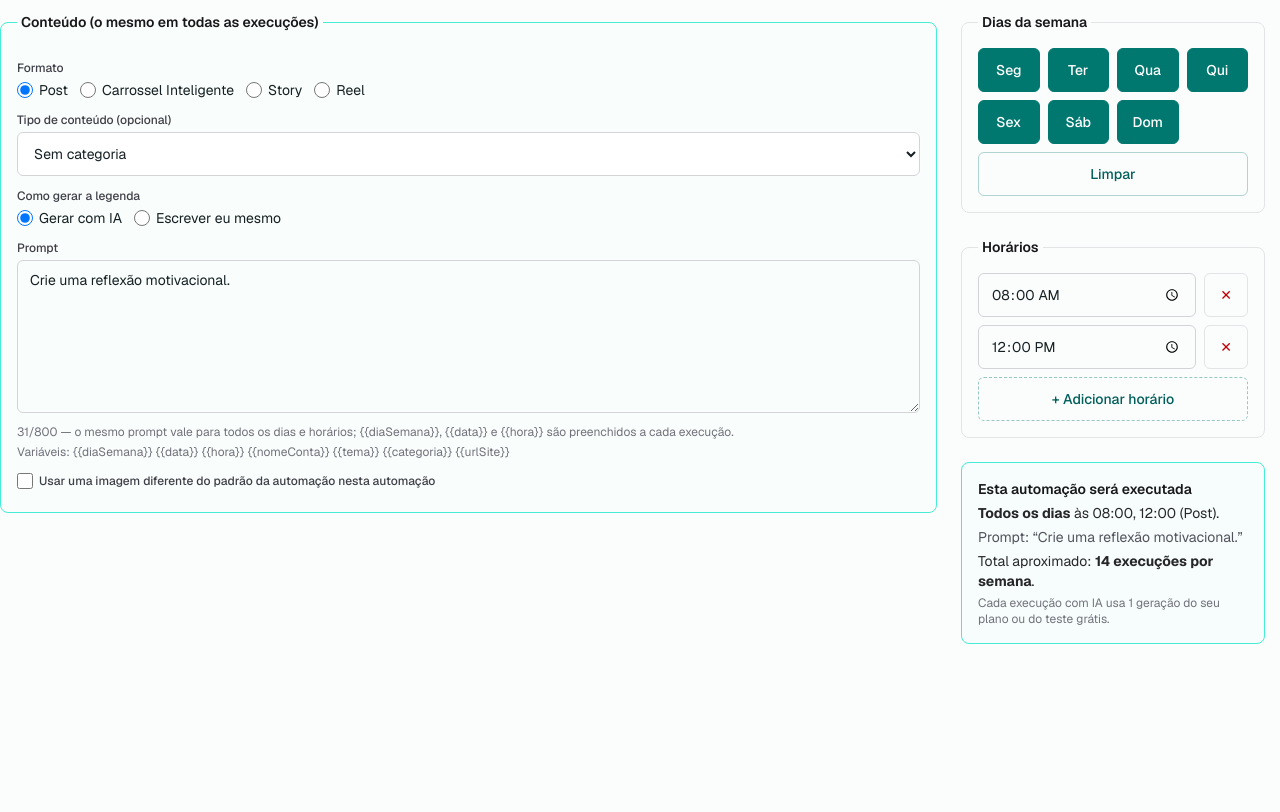
Test: SharedPromptEditor › avisa de horário repetido
Step 1. Replace the text in the time field named "Horário 2" with "08:00" → (1087, 347), box [978, 325, 1196, 369]
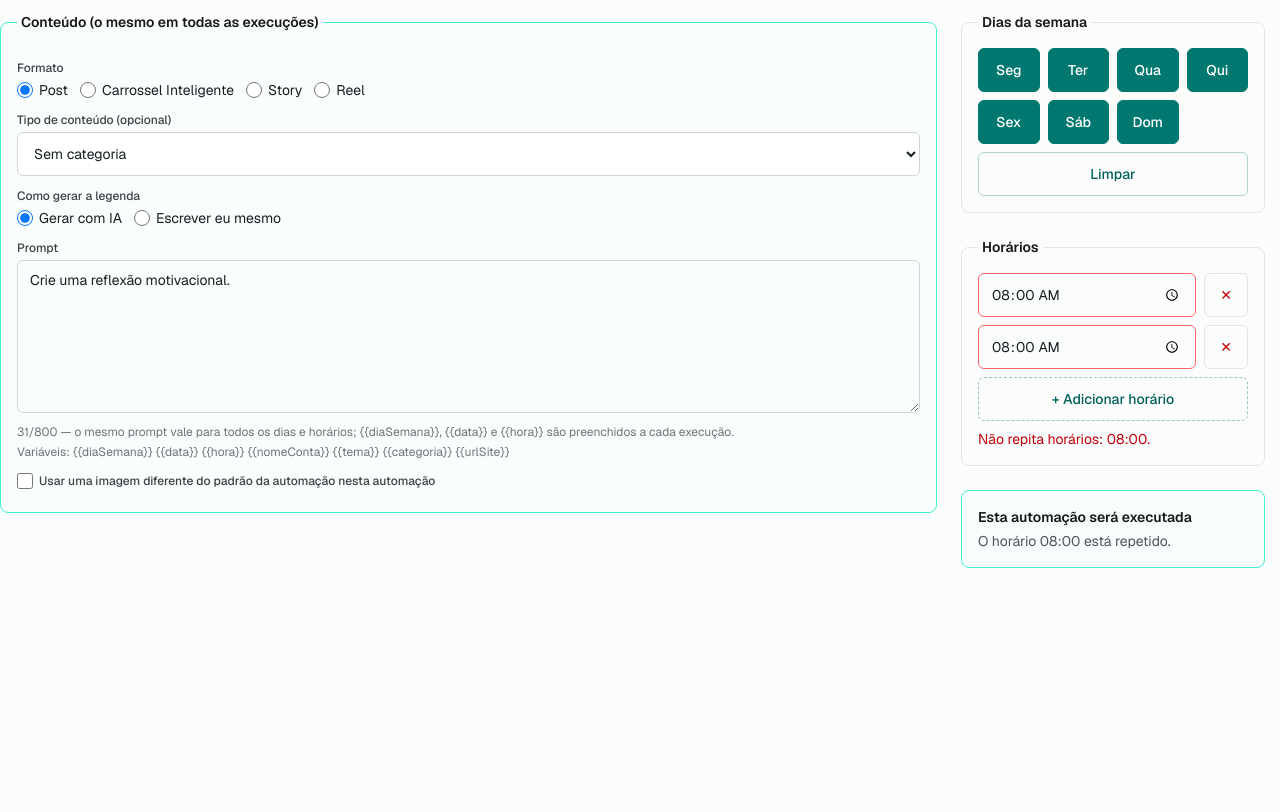
Check: the message shows "Não repita horários: 08:00", box [978, 430, 1150, 448]
